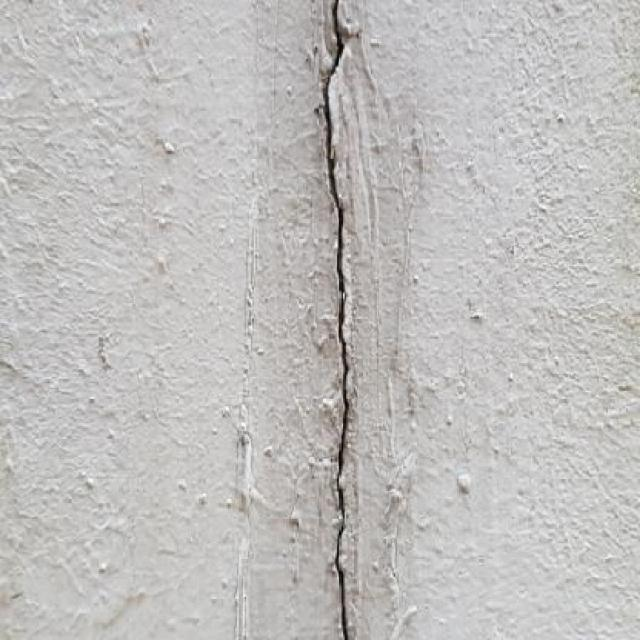vertical crack: (322, 1, 351, 640)
